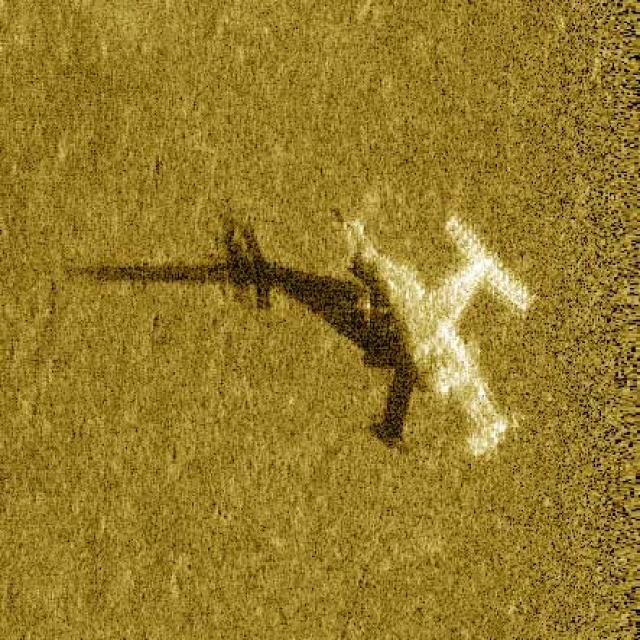plane: (319, 178, 559, 480)
